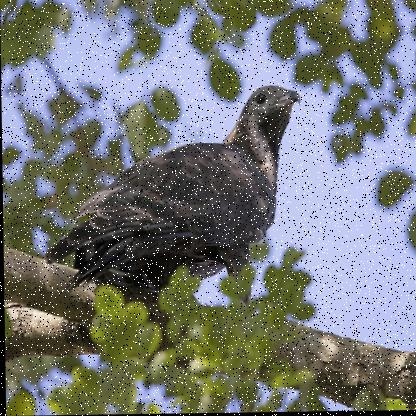Burung: (42, 78, 308, 333)
